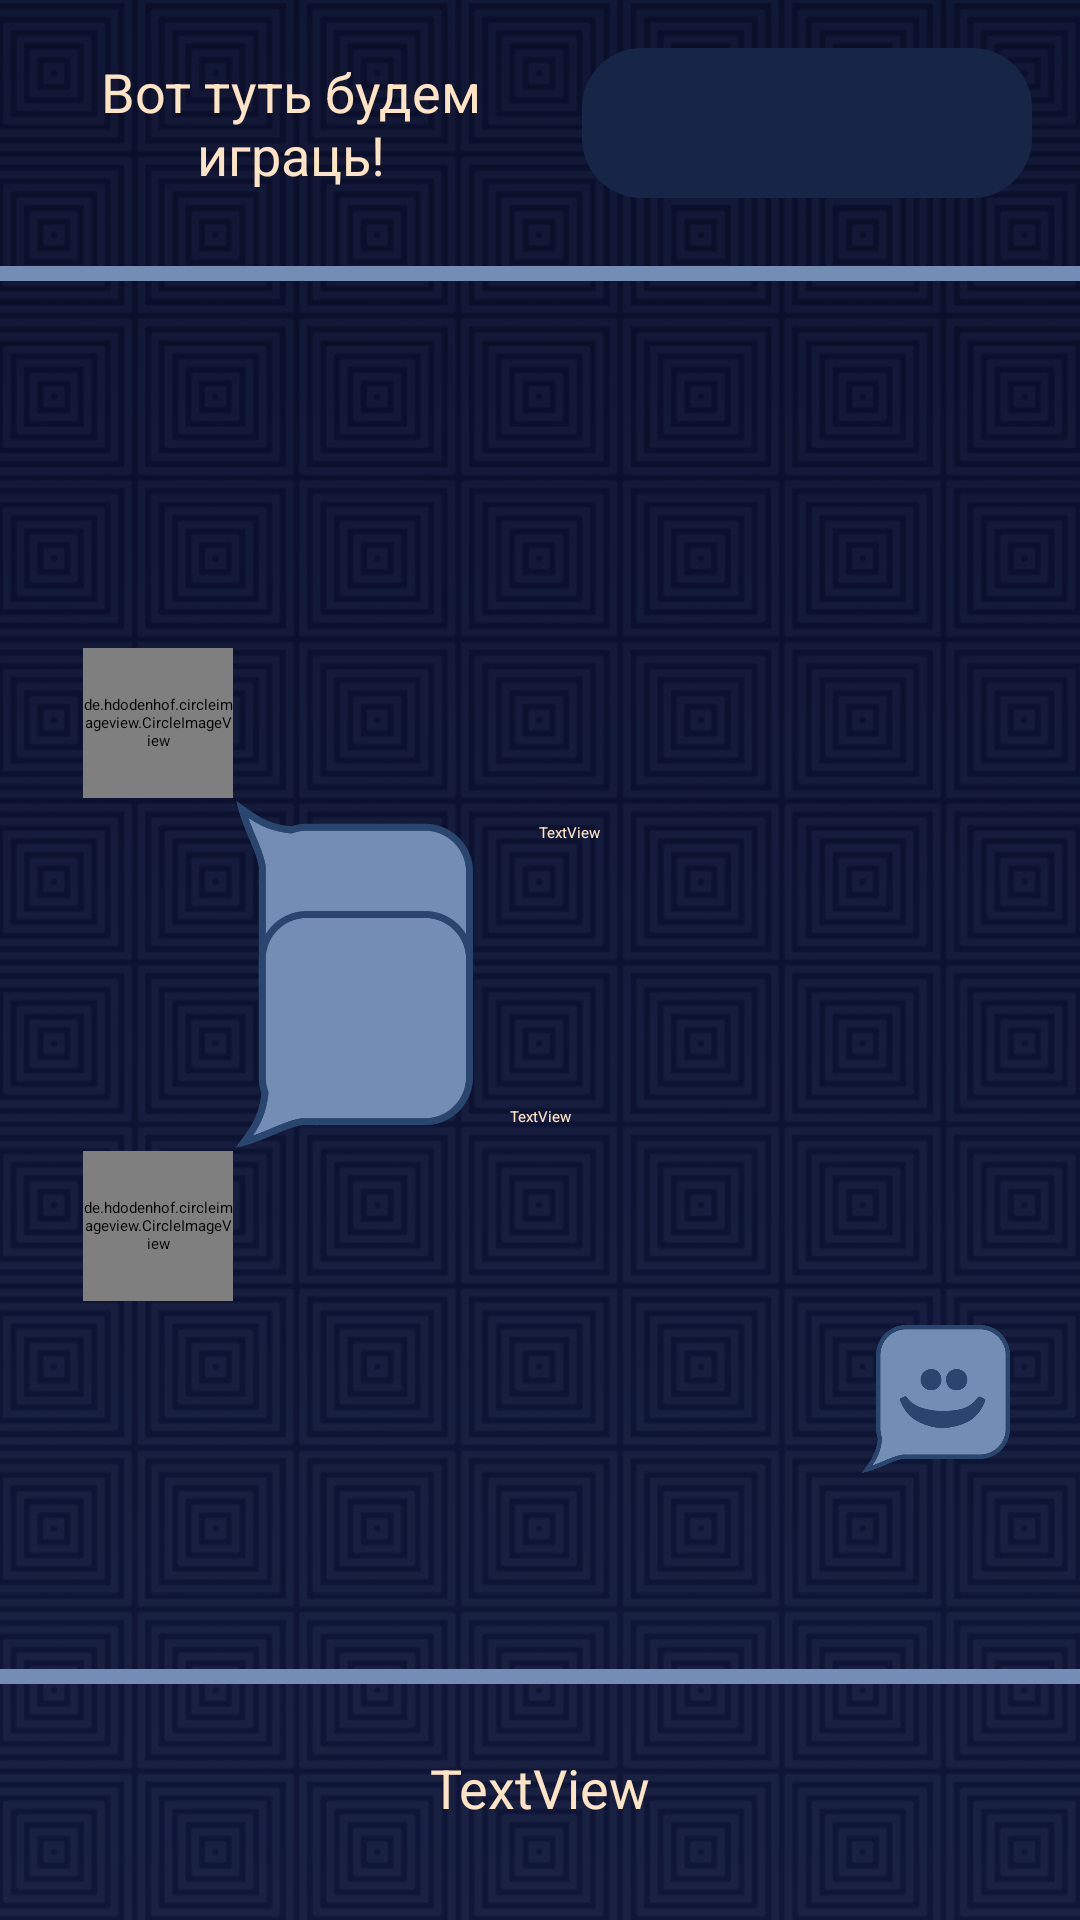

Icon click points for this 1080×1920 phone screenshot, format (x=x, y=y):
smileicon: (x=936, y=1399)
